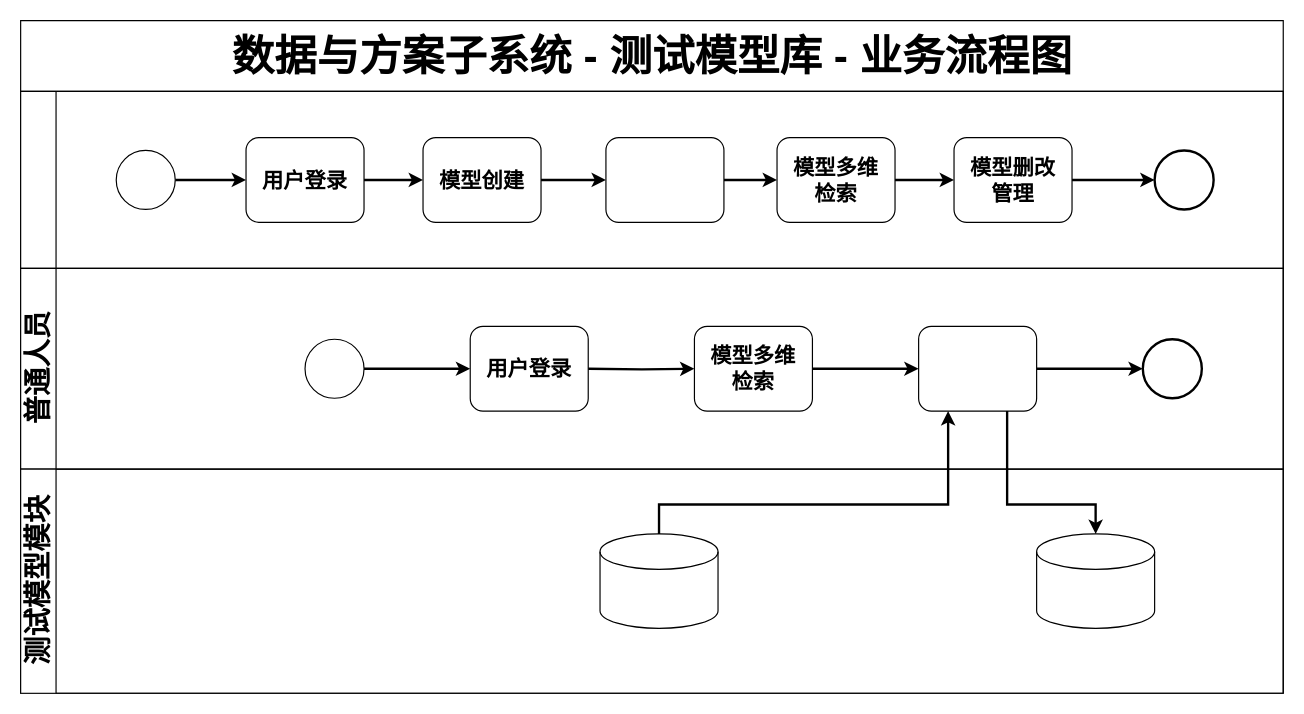
Image size: 1304x714. Some labels were removed from this diagram. The shapes that lost their labels are listed below. From the top down, each one's box as (x1, y1, x2, y2) in pixels, then its label:
(19, 90, 1283, 268): 系统管理员
(605, 136, 724, 222): 模型 元信息 编辑
(917, 325, 1037, 411): 模型 选择
(599, 533, 718, 628): 测试 模型 库
(1035, 533, 1155, 628): 用户 模型 库
